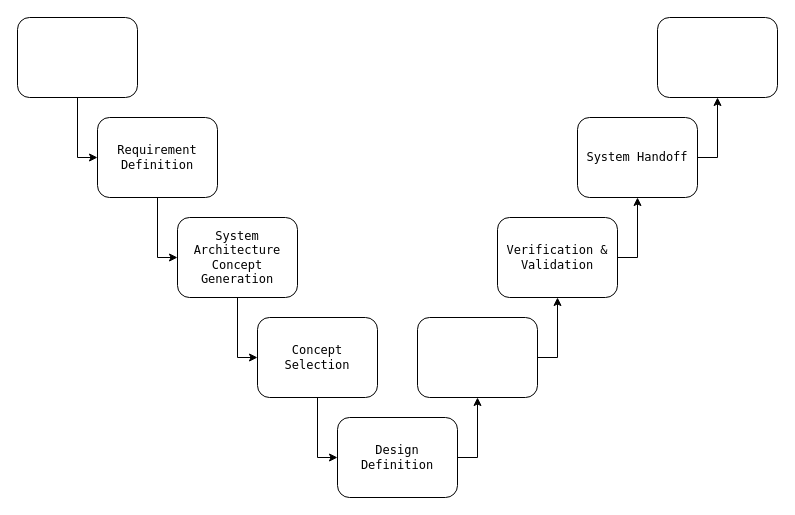
The diagram is 795 pixels wide and 515 high, and some of its shapes have lost their labels. Each missing label, with the centre of its shape:
"Lifecycle Management" belongs at (x=717, y=57).
"Stakeholder Analysis" belongs at (x=77, y=57).
"System Integration" belongs at (x=477, y=357).
